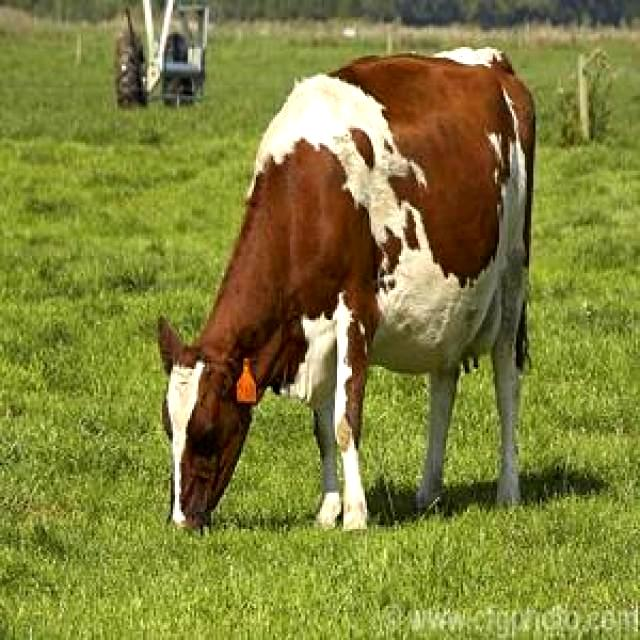COW: (159, 48, 535, 529)
